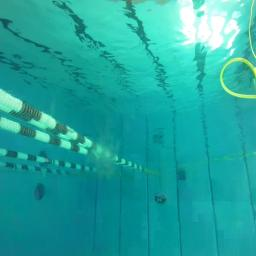Full: (154, 192, 166, 206), (178, 171, 185, 180)
